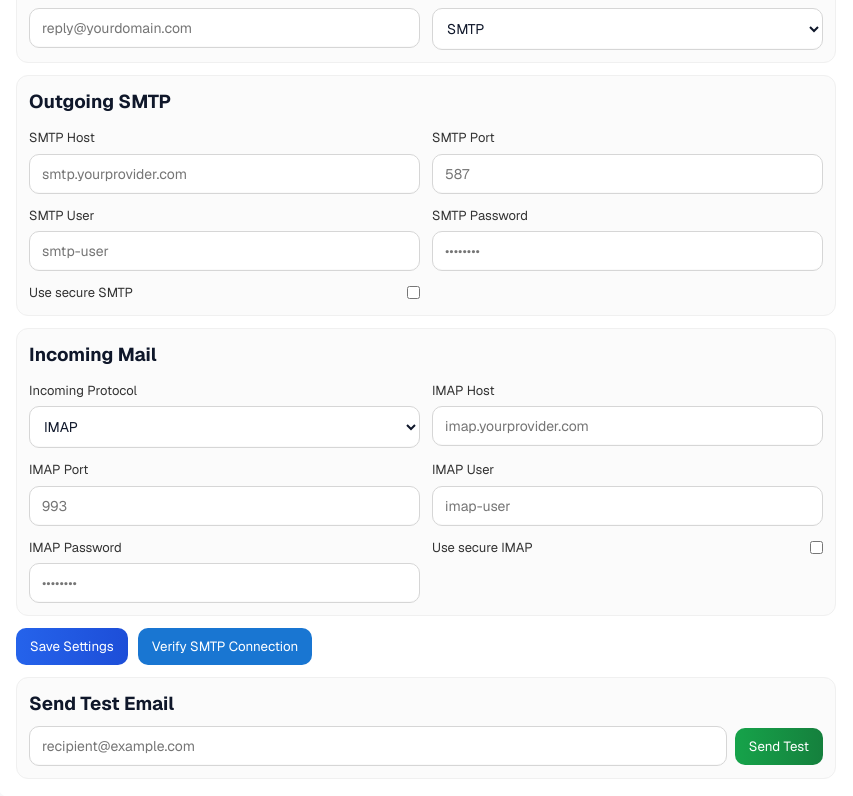
Scenario: AdminEmailSettings › shows the backend SMTP detail when the test email fails
(page scrolled)
Type "admin@example.com" into the field with placeholder "recipient@example.com" at (378, 746), box 29,726 -> 727,766
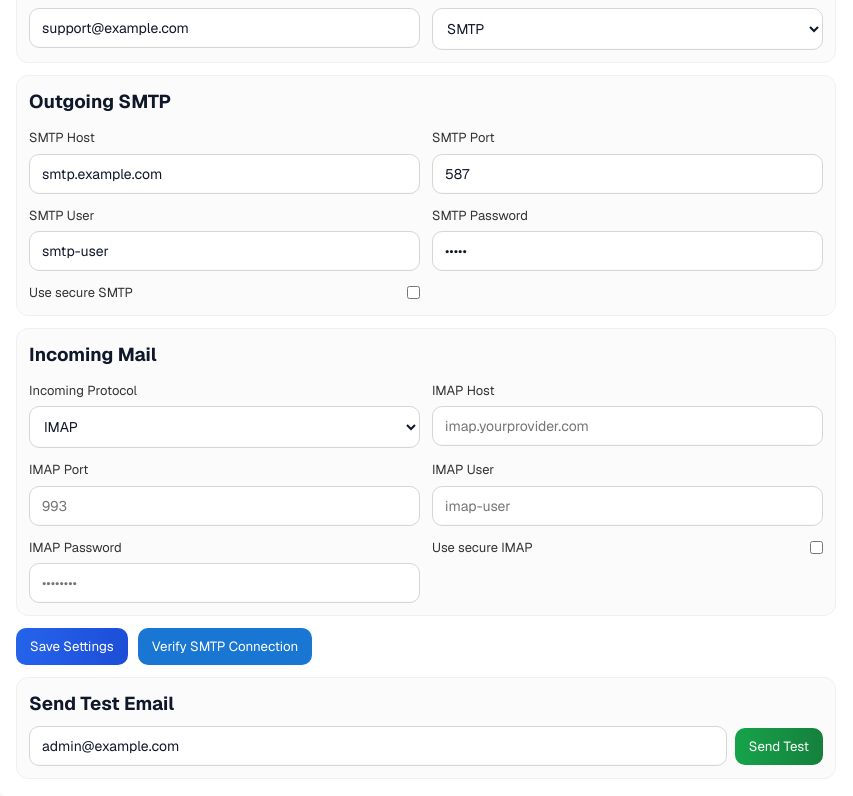
Click the button "Send Test" at (779, 746), box 735,728 -> 823,765
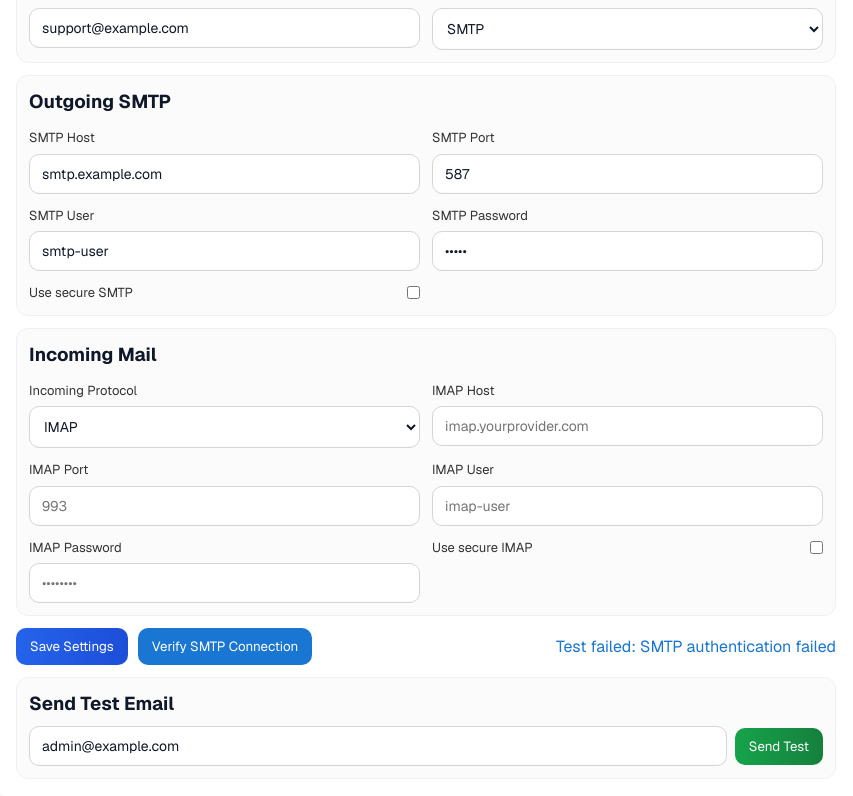
Result: the text "Test failed: SMTP authentication failed" is shown at 556,635 -> 836,659
